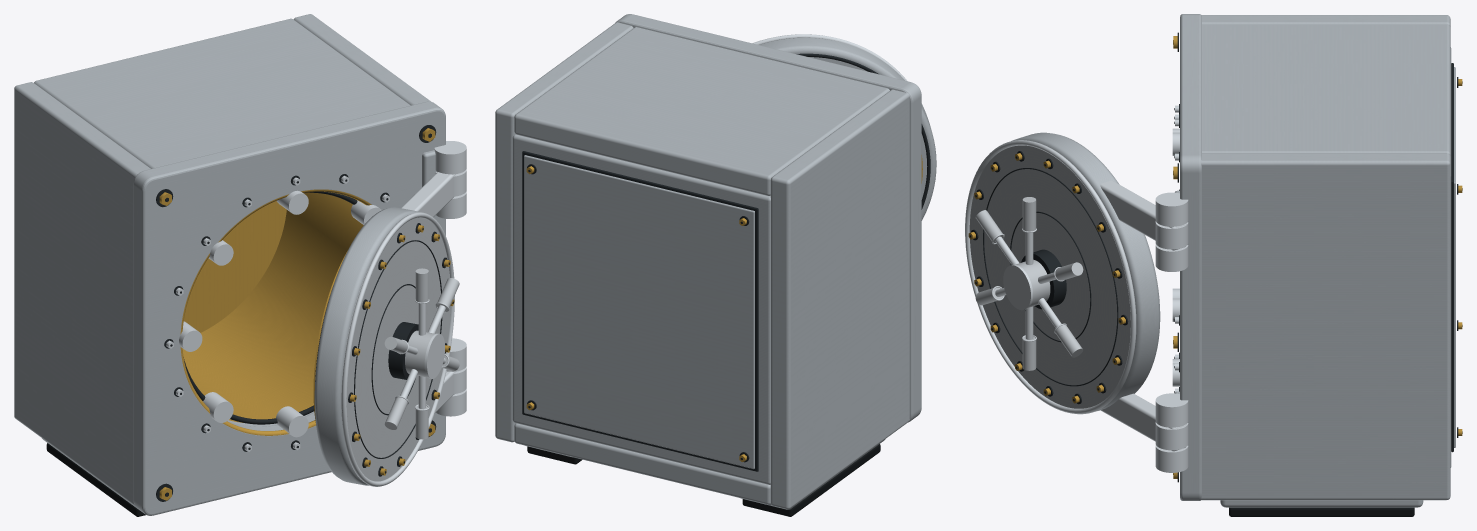
The model's file is vault.glb.
3 views of the same model, side by side, from view 1: azimuth 30°, elevation 25°; view 2: azimuth 150°, elevation 25°; view 3: azimuth 270°, elevation 25° (orthographic). The views are drawn at different scales.
Parts seen in each view (by area): view 1: Vault-Front-Frame, Vault-Shell-Side--1, Vault-Shell-Cap-1, Vault-Interior-Liner, Vault-Door-Front, Vault-Door-Mass, Vault-Chamber-Back, Vault-Door-Outer-Rim, Vault-Shell-Side-1, Vault-Door-Hinge-Link-0.71, Vault-Chamber-Lip, Vault-Hinge-2.08-0.16 (+11 smaller); view 2: Vault-Back-Panel, Vault-Shell-Side--1, Vault-Shell-Cap-1, Vault-Shell-Back, Vault-Shell-Side-1, Vault-Front-Frame, Vault-Shell-Cap--1, Vault-Back-Inset, Vault-Door-Mass, Vault-Foot-Pad--1, Vault-Door-Seal, Vault-Door-Outer-Rim; view 3: Vault-Shell-Side-1, Vault-Shell-Cap-1, Vault-Door-Front, Vault-Front-Frame, Vault-Door-Mass, Vault-Door-Outer-Rim, Vault-Shell-Side--1, Vault-Foot-Pad-1, Vault-Door-Hinge-Link-0.71, Vault-Foot-1, Vault-Door-Hinge-Link--0.71, Vault-Back-Inset (+12 smaller).
Boxes of the visible parts, <box> form: Vault-Front-Frame: <box>133,101,445,515</box>; Vault-Shell-Side--1: <box>14,82,150,505</box>; Vault-Shell-Cap-1: <box>34,18,410,168</box>; Vault-Interior-Liner: <box>182,192,363,422</box>; Vault-Door-Front: <box>341,217,450,481</box>; Vault-Door-Mass: <box>314,207,418,485</box>; Vault-Chamber-Back: <box>184,201,286,332</box>; Vault-Door-Outer-Rim: <box>341,212,454,486</box>; Vault-Shell-Side-1: <box>293,14,431,105</box>; Vault-Door-Hinge-Link-0.71: <box>401,172,455,217</box>; Vault-Chamber-Lip: <box>180,189,371,435</box>; Vault-Hinge-2.08-0.16: <box>434,141,466,174</box>; Vault-Back-Panel: <box>524,155,754,468</box>; Vault-Shell-Side--1: <box>770,89,909,509</box>; Vault-Shell-Cap-1: <box>514,27,889,195</box>; Vault-Shell-Back: <box>512,134,770,484</box>; Vault-Shell-Side-1: <box>495,22,633,442</box>; Vault-Front-Frame: <box>615,14,921,422</box>; Vault-Shell-Cap--1: <box>514,423,770,504</box>; Vault-Back-Inset: <box>522,151,758,471</box>; Vault-Door-Mass: <box>759,37,936,220</box>; Vault-Foot-Pad--1: <box>742,444,880,516</box>; Vault-Door-Seal: <box>796,53,930,209</box>; Vault-Door-Outer-Rim: <box>752,34,925,112</box>; Vault-Shell-Side-1: <box>1201,153,1450,500</box>; Vault-Shell-Cap-1: <box>1202,24,1450,156</box>; Vault-Door-Front: <box>969,145,1130,408</box>; Vault-Front-Frame: <box>1180,14,1201,500</box>; Vault-Door-Mass: <box>1011,132,1160,411</box>; Vault-Door-Outer-Rim: <box>965,140,1136,414</box>; Vault-Shell-Side--1: <box>1201,15,1450,27</box>; Vault-Foot-Pad-1: <box>1229,507,1414,516</box>; Vault-Door-Hinge-Link-0.71: <box>1100,180,1186,250</box>; Vault-Foot-1: <box>1220,500,1423,507</box>; Vault-Door-Hinge-Link--0.71: <box>1101,393,1186,451</box>; Vault-Back-Inset: <box>1451,63,1453,452</box>.
Bounding box in the file's own units: 2.39 × 2.6 × 3.2.
Materials: 6 (3 with a texture image).
